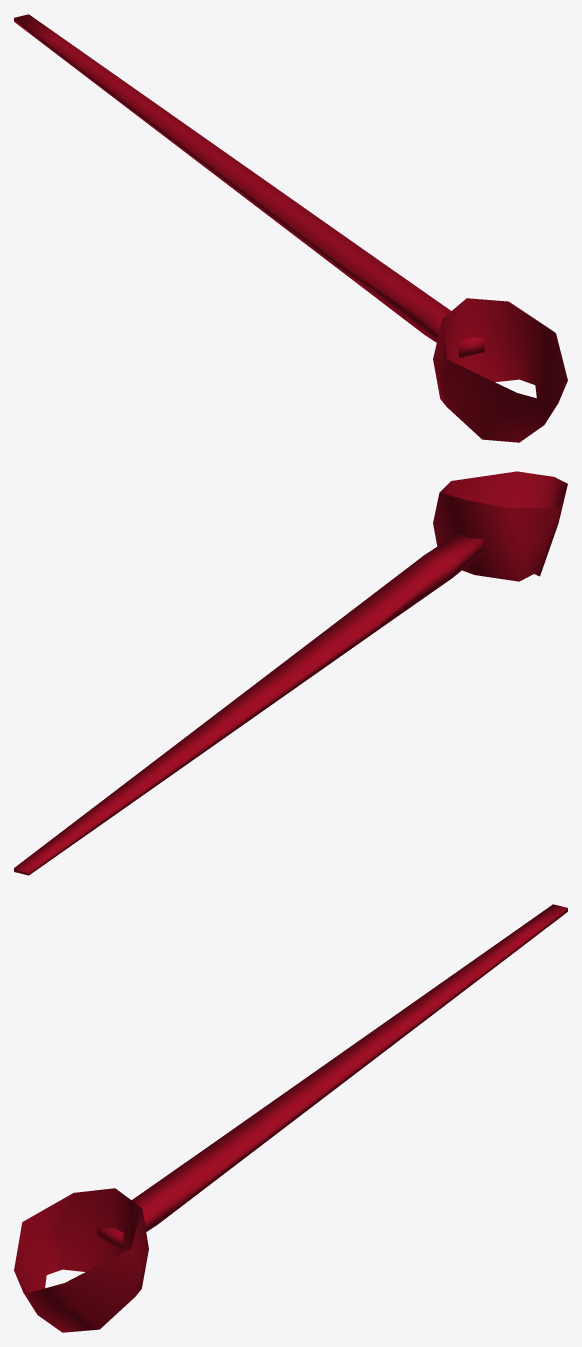
The model's file is Obj_Player_Scarf.obj.
3 views of the same model, one above another, from view 1: azimuth 30°, elevation 25°; view 2: azimuth 150°, elevation 25°; view 3: azimuth 330°, elevation 25° (orthographic).
Visible parts, largest first — view 1: Scarf; view 2: Scarf; view 3: Scarf.
Boxes of the visible parts, left/top/right/bottom form: Scarf: left=14, top=14, right=567, bottom=442; Scarf: left=14, top=471, right=567, bottom=875; Scarf: left=14, top=904, right=567, bottom=1332.
Size of the model in its own units: 16.35 by 15.18 by 138.
